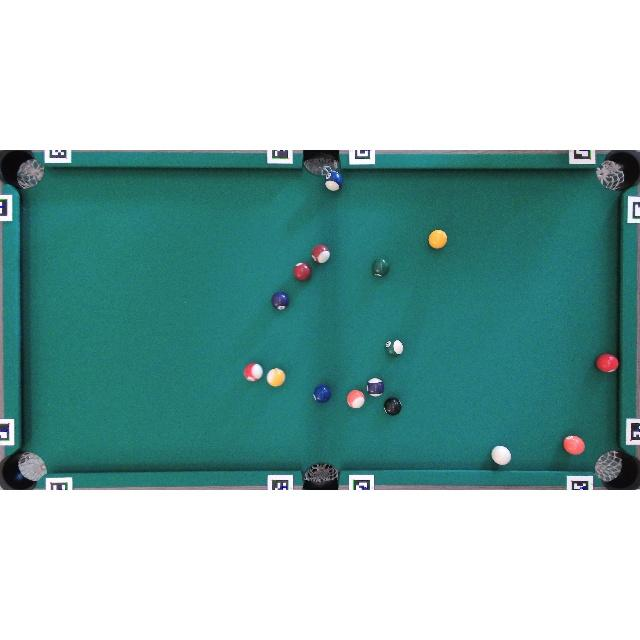cue ball: (491, 445, 512, 466)
other: (595, 353, 619, 373), (563, 436, 585, 455), (266, 367, 286, 387), (428, 229, 448, 249), (324, 170, 343, 191), (244, 362, 263, 382), (312, 244, 331, 264), (293, 262, 311, 281), (366, 378, 384, 397), (313, 385, 331, 403), (272, 292, 290, 310), (347, 390, 365, 408), (384, 397, 402, 415), (372, 258, 389, 277), (385, 340, 403, 356)
